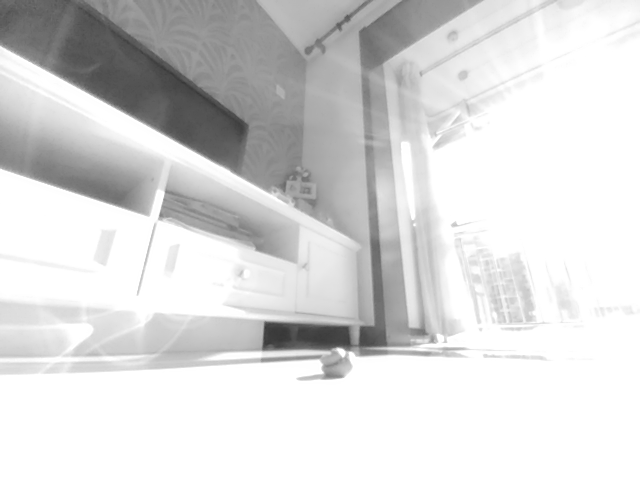curtain: (394, 60, 483, 341)
pet feces: (321, 348, 352, 378)
